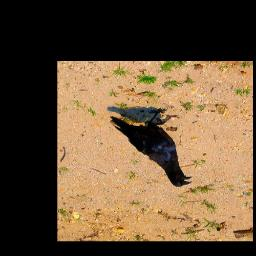Crow: (110, 108, 192, 187)
